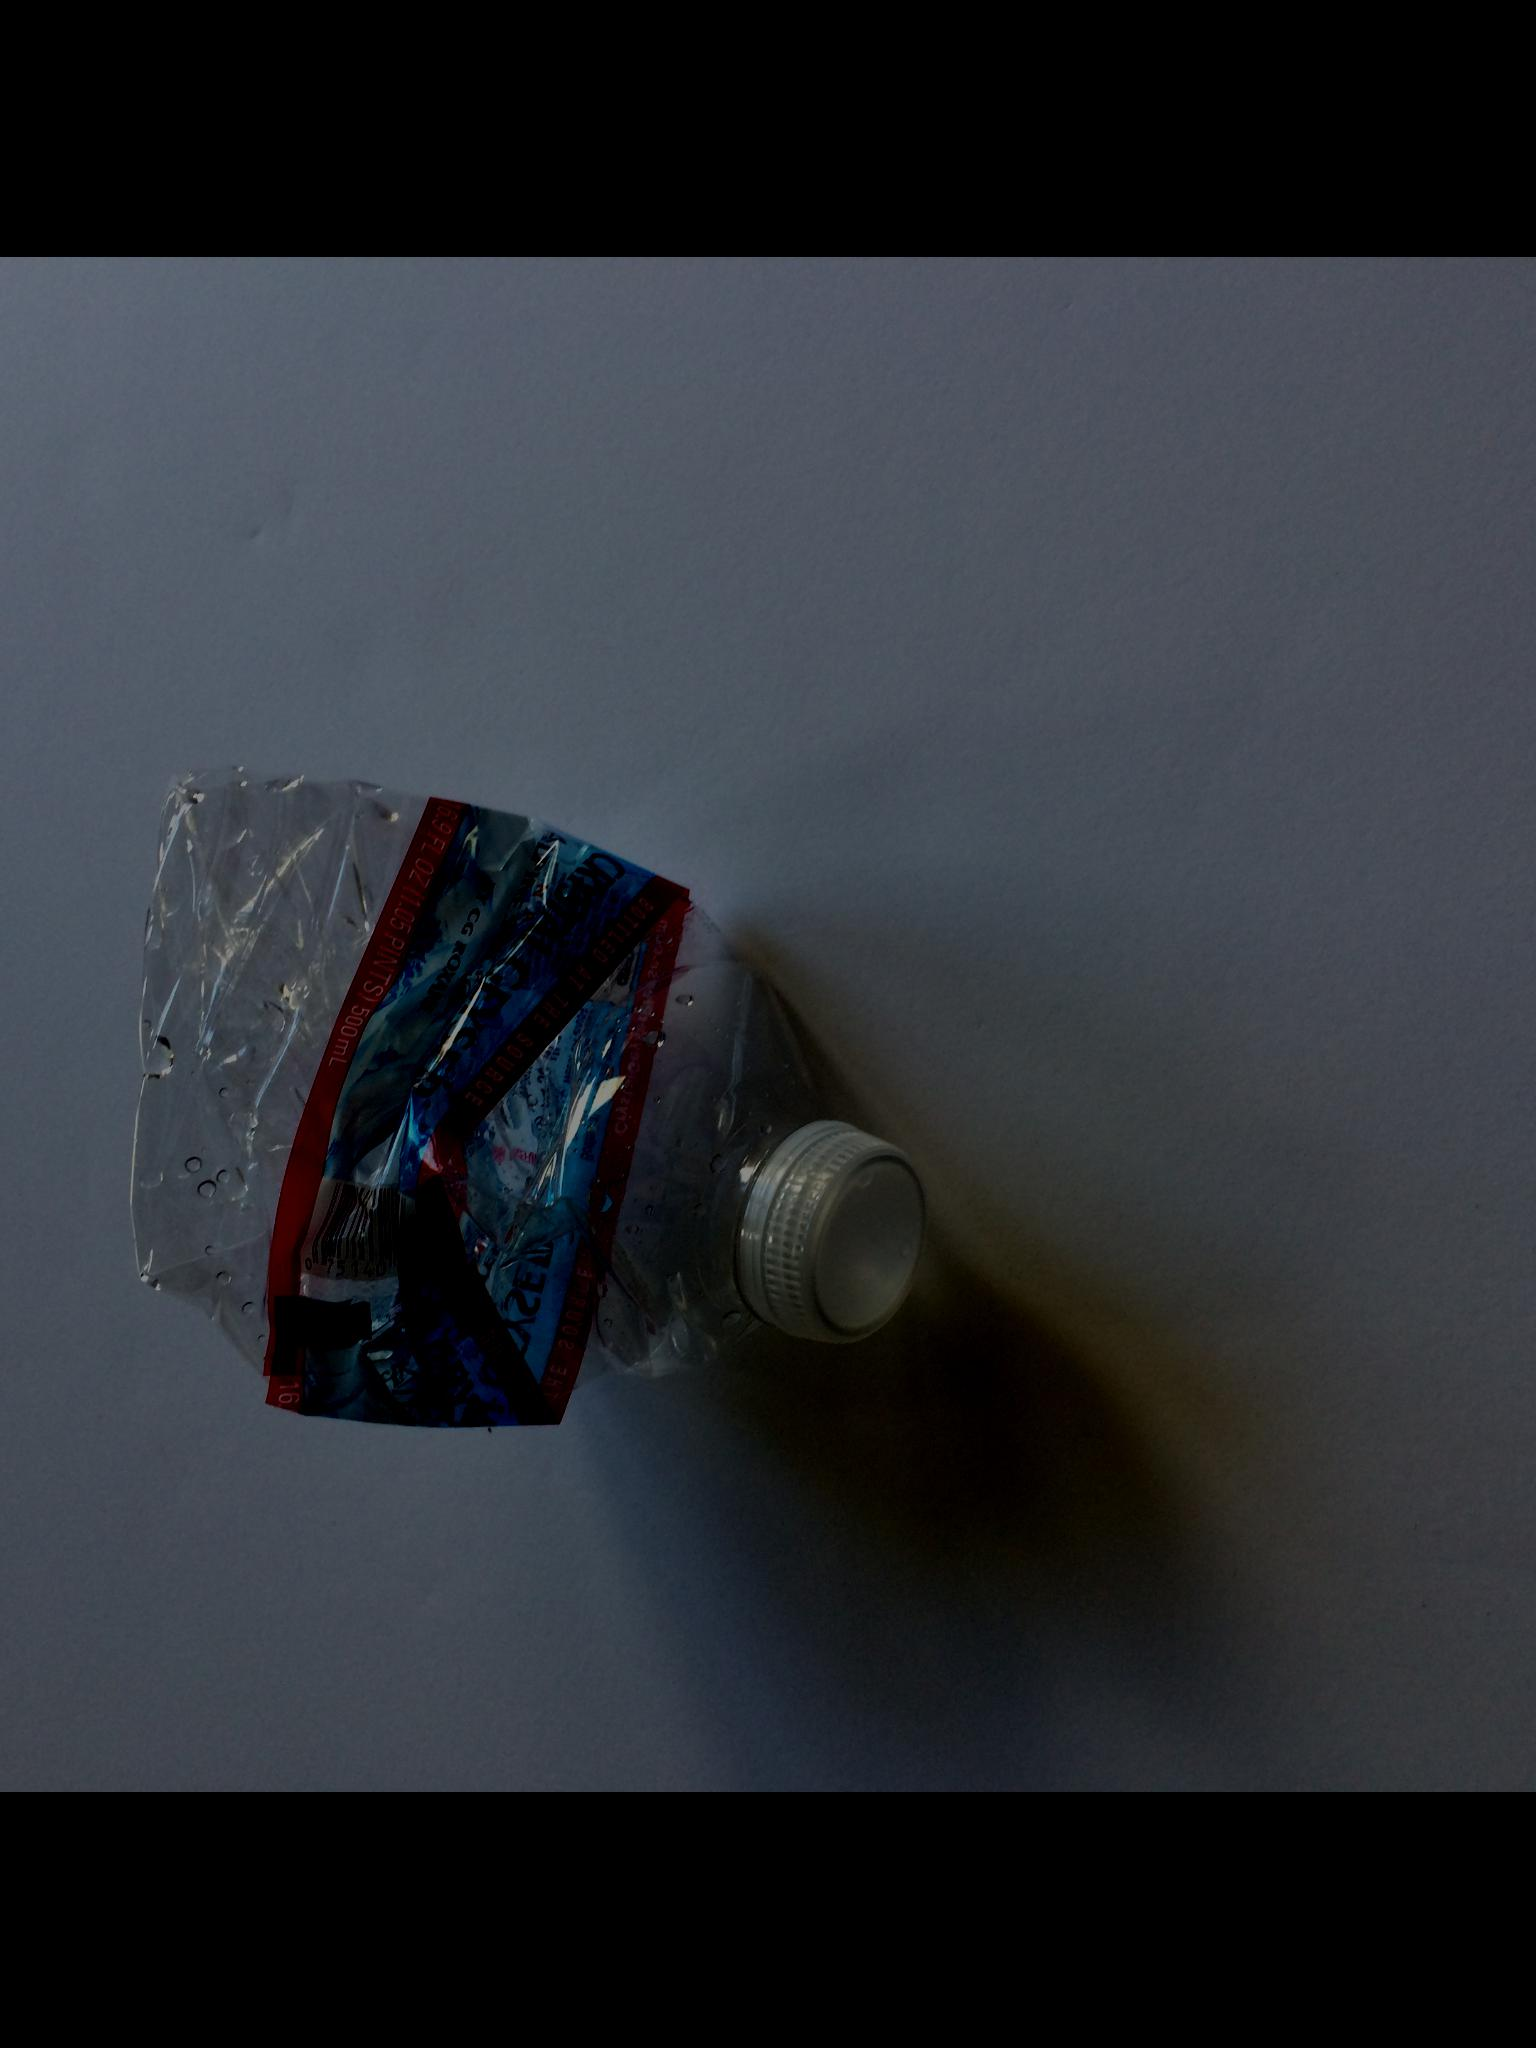Plastic: (94, 739, 941, 1451)
